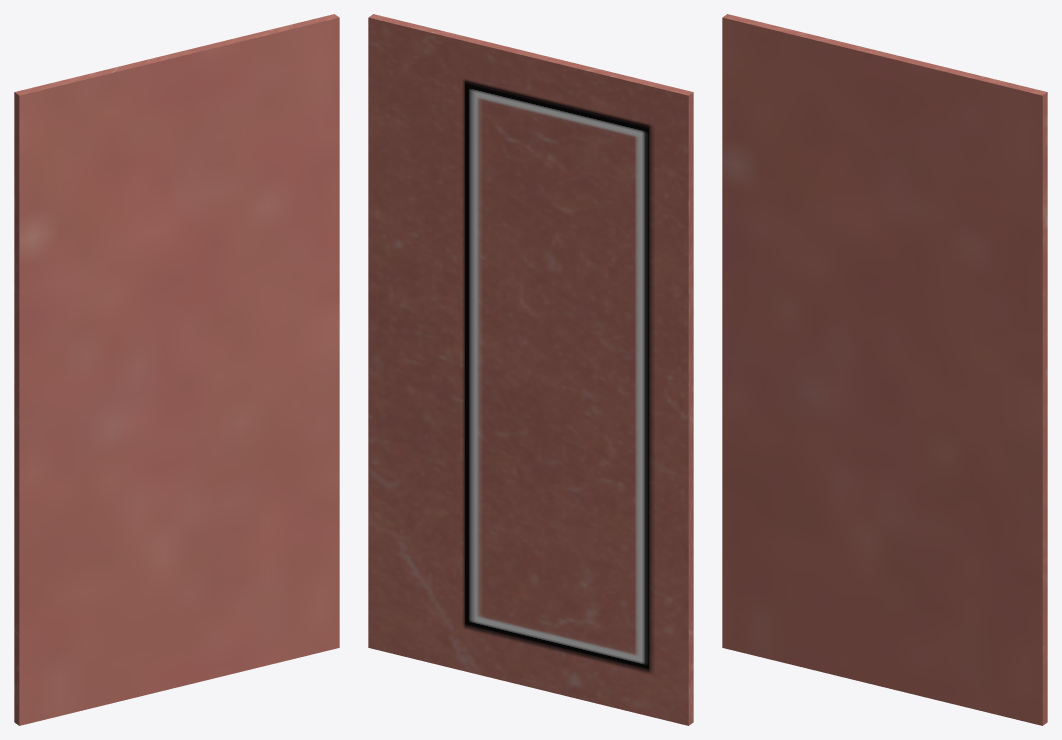
The model's file is SM_SJJ_HG_Wall06F.fbx.
3 renders of one model, left to right at view 1: azimuth 30°, elevation 25°; view 2: azimuth 150°, elevation 25°; view 3: azimuth 330°, elevation 25°, orthographic.
Visible parts, largest first — view 1: SM_SJJ_HG_Wall06F; view 2: SM_SJJ_HG_Wall06F; view 3: SM_SJJ_HG_Wall06F.
Boxes of the visible parts, x1,y1,x2,y2 form: SM_SJJ_HG_Wall06F: [14, 14, 339, 725]; SM_SJJ_HG_Wall06F: [368, 14, 693, 725]; SM_SJJ_HG_Wall06F: [722, 14, 1047, 725].
Size of the model in its own units: 81.62 by 2.16 by 154.
1 material, 1 textured.
